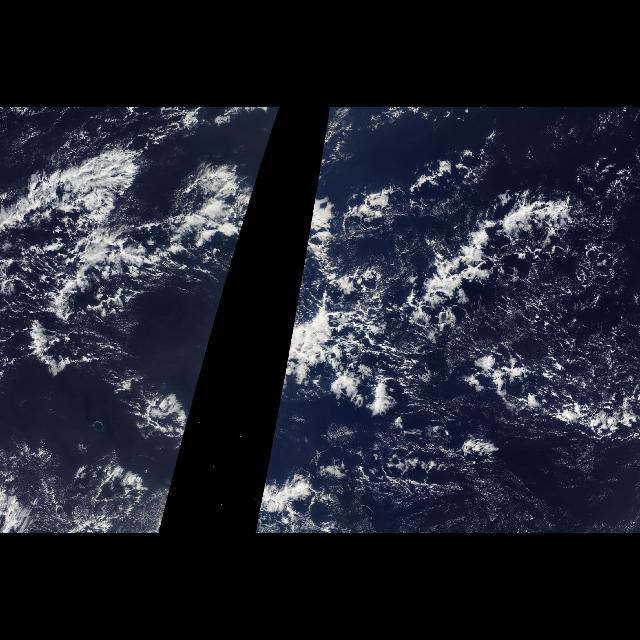Fish: (1, 136, 271, 378)
Gravel: (348, 182, 640, 490)
Sugar: (522, 249, 640, 396), (1, 448, 160, 534)
